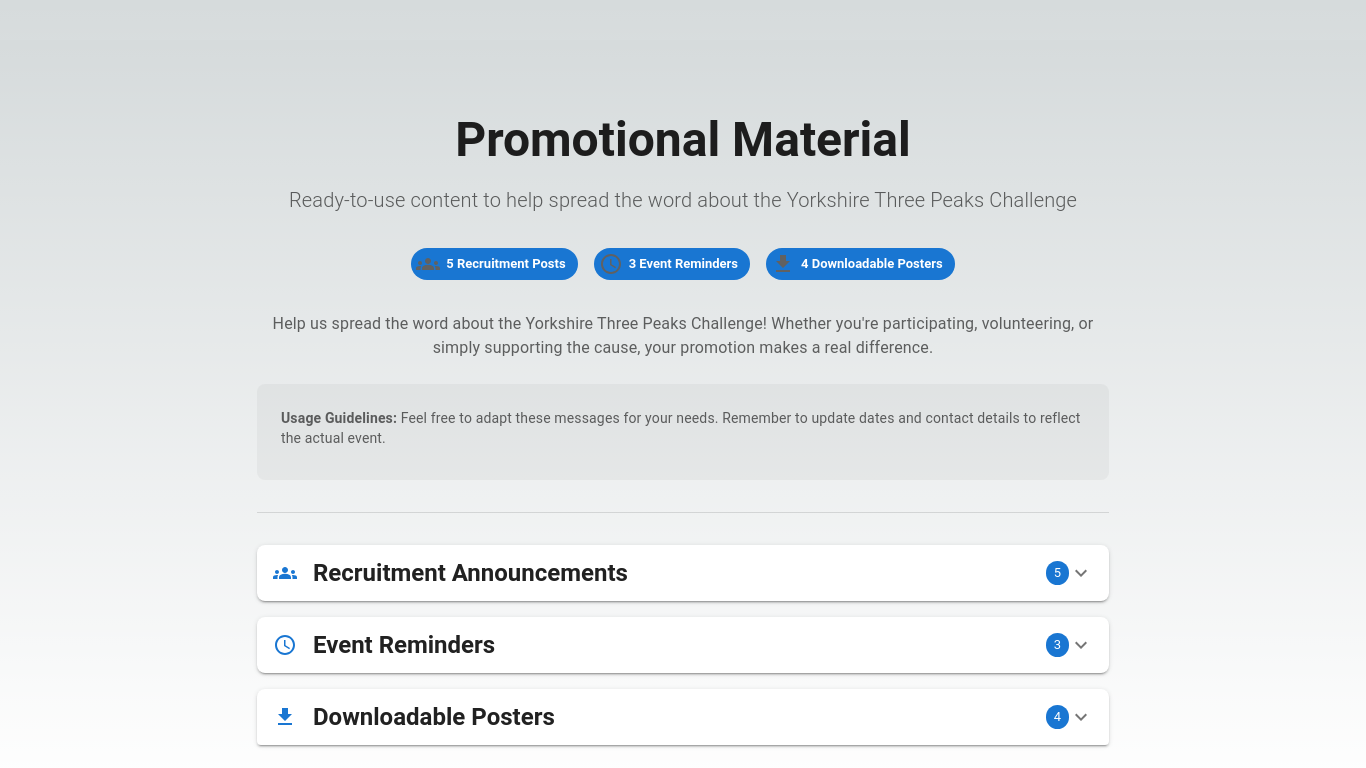
Test: Promotion Component › expands section when accordion is clicked
The image size is (1366, 768).
Click the heading "Recruitment Announcements" at coordinates (470, 573), box [313, 559, 628, 587]
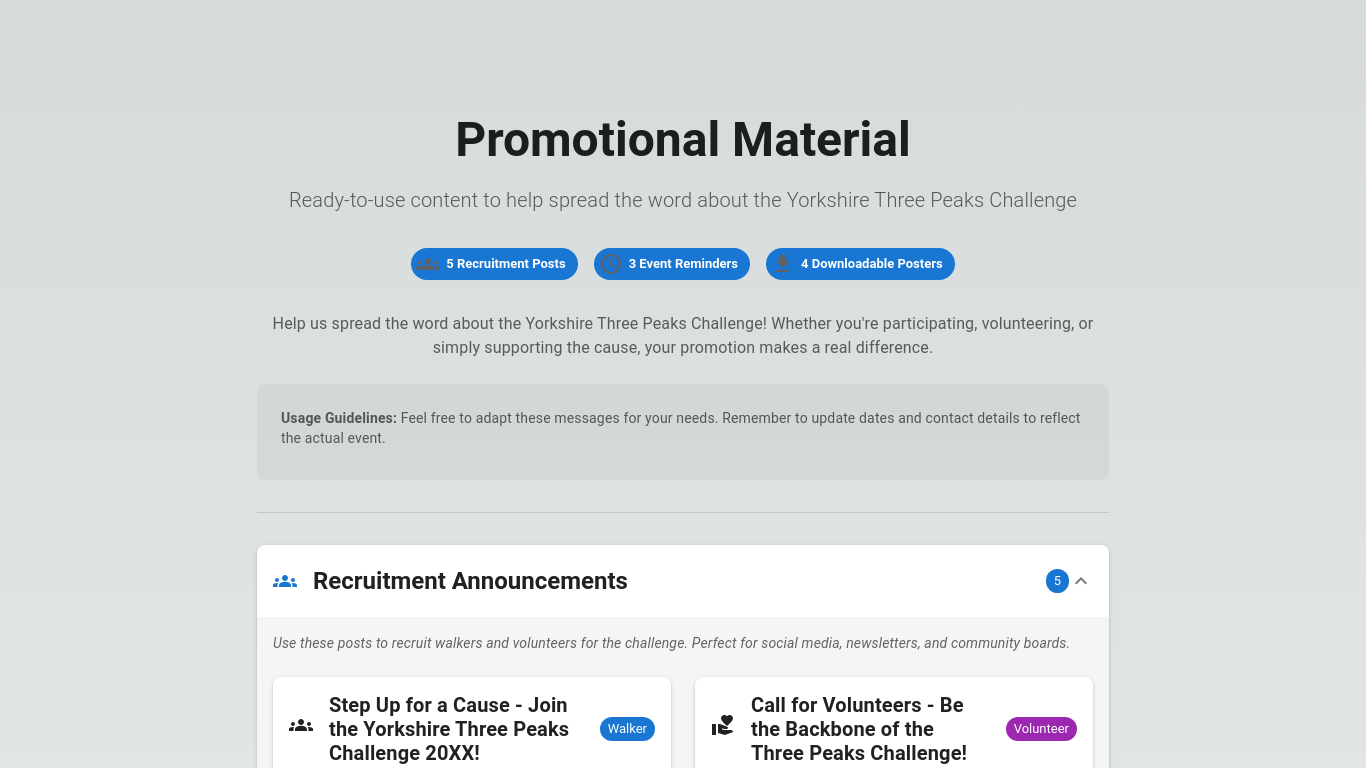
Expected: the text "Use these posts to recruit walkers" is shown, [273, 635, 1070, 651]
